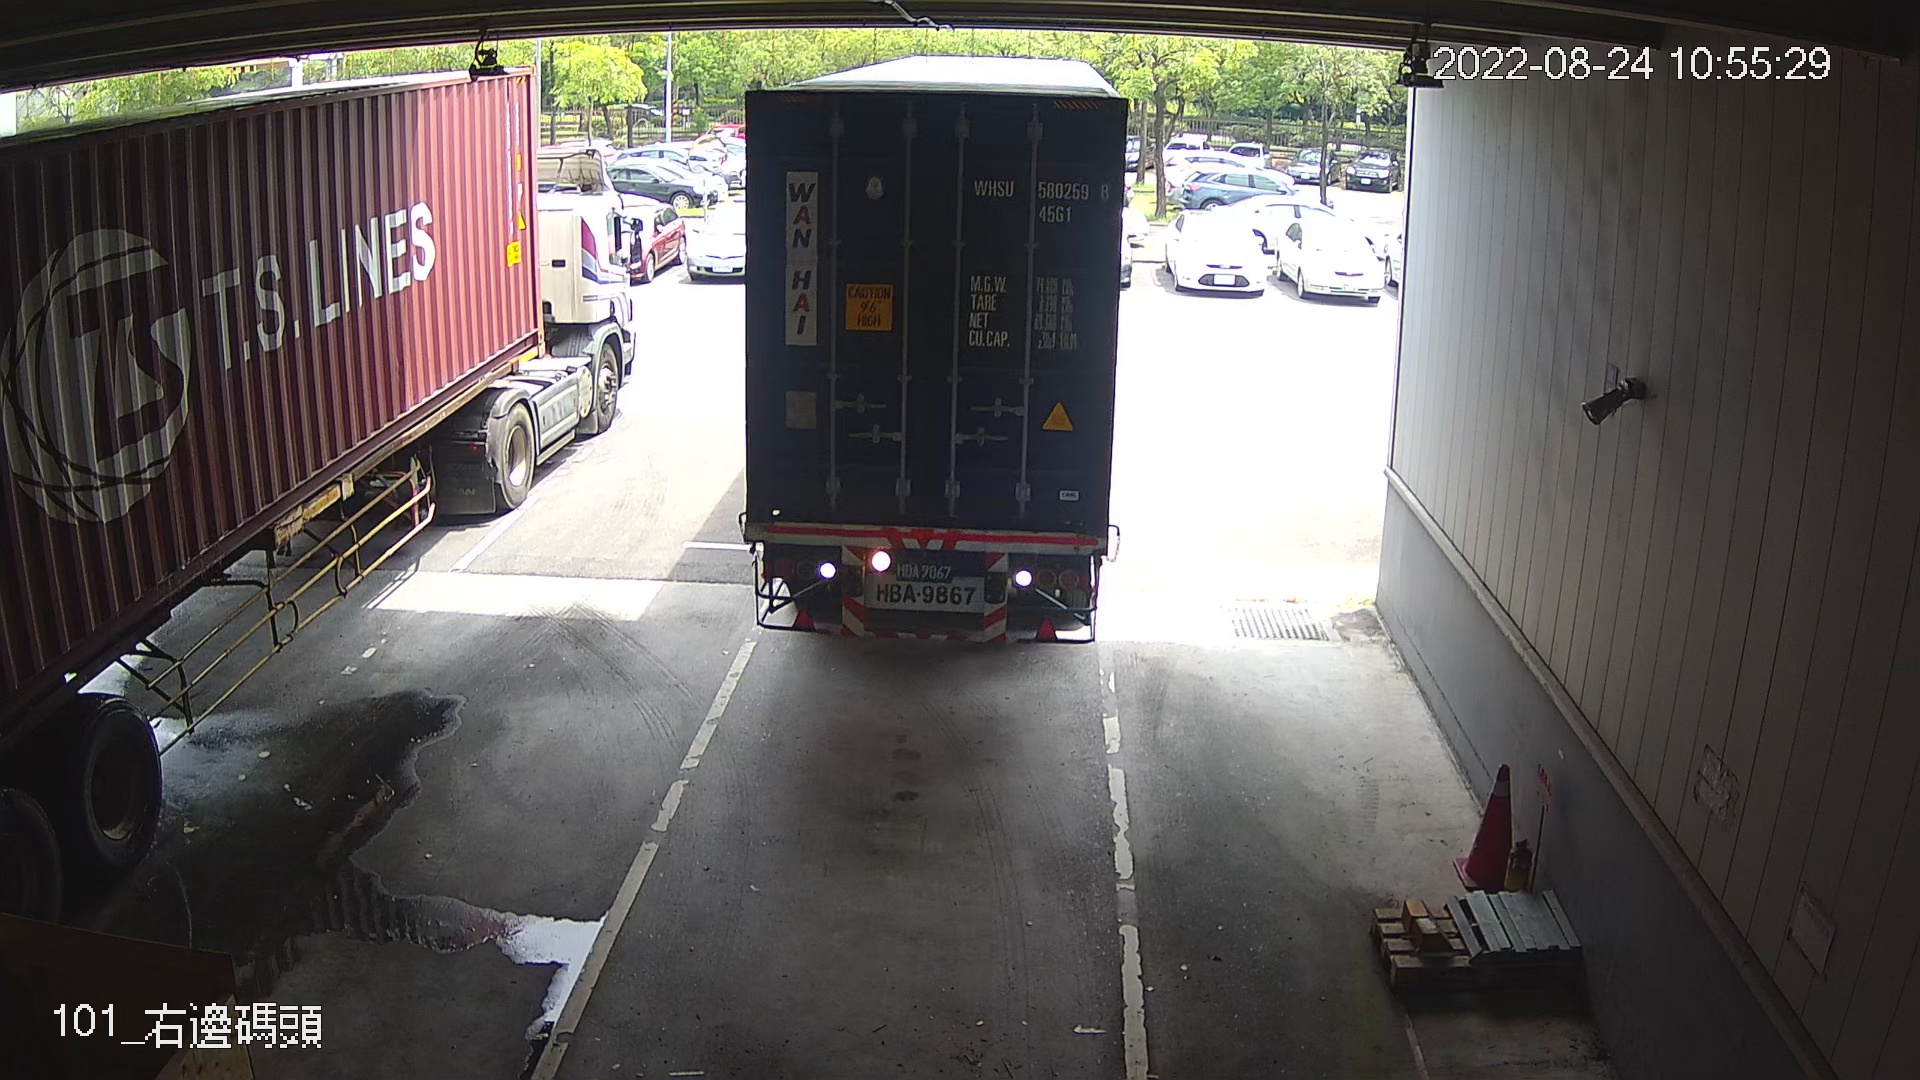container: (964, 166, 1114, 232)
